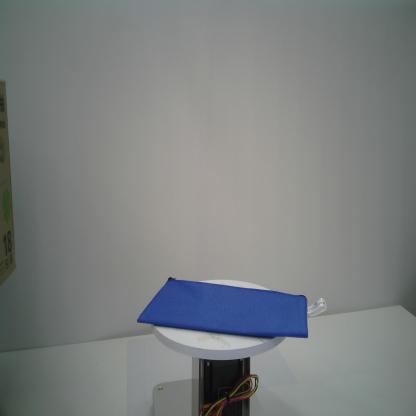Stationery: (136, 276, 308, 339)
